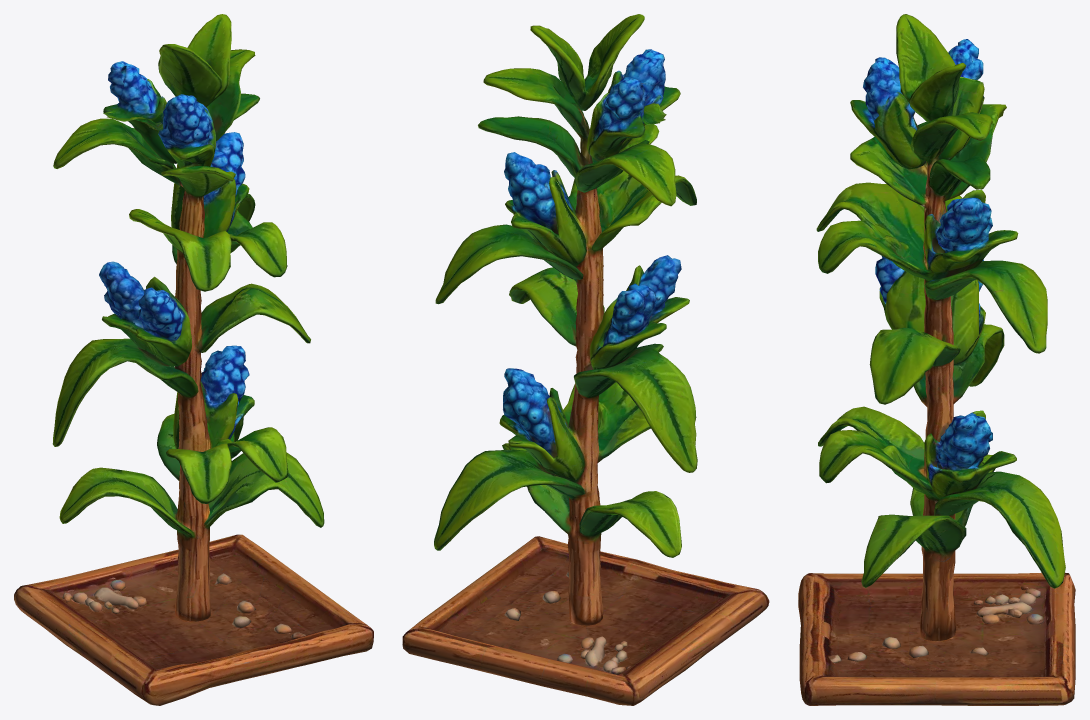
The model's file is blueberry.glb.
3 renders of one model, left to right at view 1: azimuth 30°, elevation 25°; view 2: azimuth 150°, elevation 25°; view 3: azimuth 270°, elevation 25°, orthographic.
Bounding box in the file's own units: 0.7906 × 1.91 × 0.775.
Materials: 1 (1 with a texture image).
